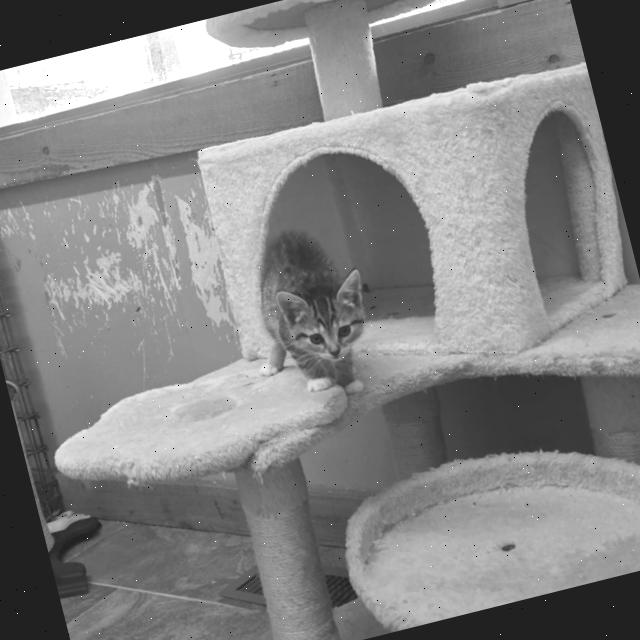manx_cat: (258, 246, 396, 386)
